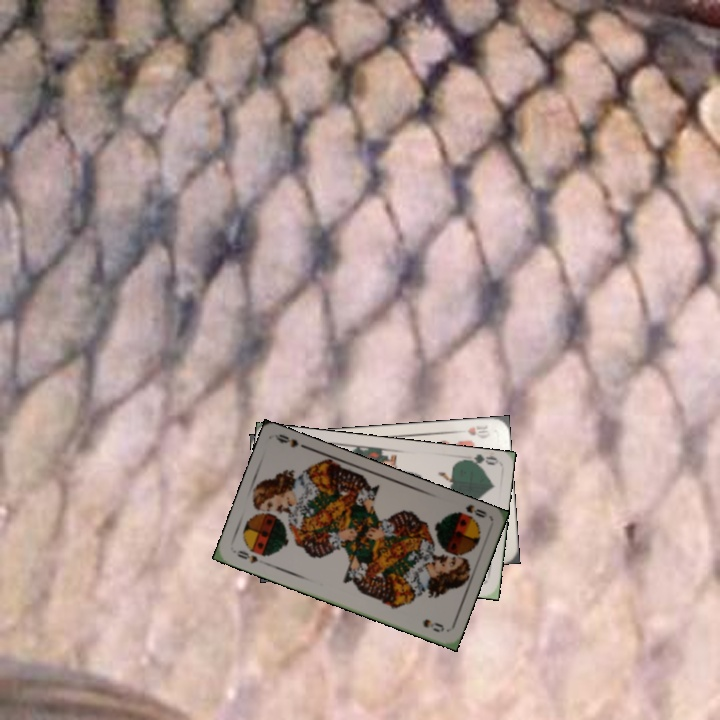GO: (457, 451, 498, 471)
H10: (464, 421, 491, 438)
SO: (450, 500, 490, 524), (233, 546, 261, 566)
